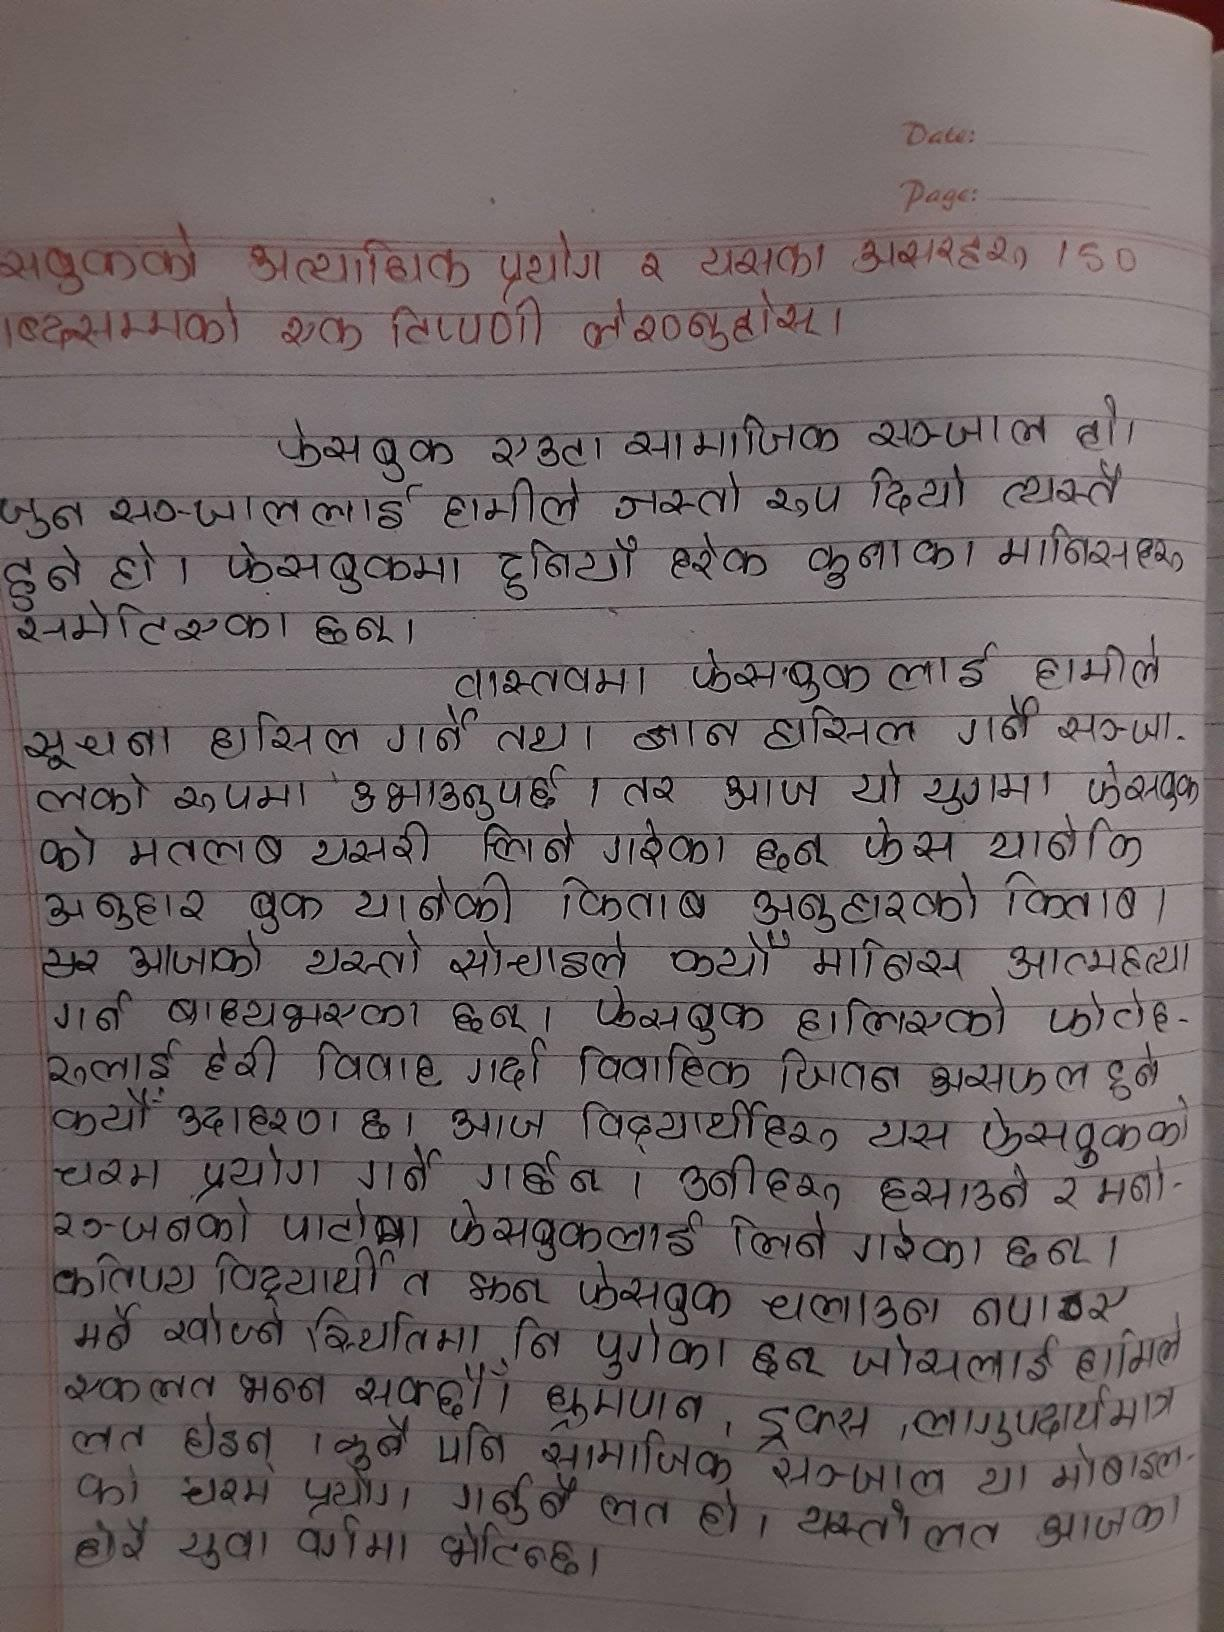text: (683, 637, 996, 705), (570, 1091, 841, 1160), (440, 1202, 711, 1270), (910, 1387, 1192, 1447), (162, 980, 426, 1042), (1, 216, 211, 293), (1, 290, 246, 356), (579, 292, 827, 356), (744, 873, 987, 938), (977, 1097, 1203, 1167), (213, 538, 471, 598), (15, 599, 293, 650), (791, 988, 1018, 1049), (240, 230, 476, 288), (534, 1428, 737, 1495), (269, 412, 456, 483), (669, 1148, 852, 1220), (210, 1240, 397, 1309), (842, 1333, 1066, 1390), (346, 765, 573, 821), (103, 491, 411, 532), (585, 980, 768, 1049), (566, 1034, 757, 1097), (993, 929, 1200, 987), (48, 1193, 258, 1249), (993, 519, 1189, 580), (804, 532, 982, 598), (447, 928, 636, 989), (536, 1372, 712, 1438), (575, 1258, 739, 1326), (297, 1303, 490, 1361), (350, 870, 519, 936), (621, 412, 841, 463), (428, 1516, 586, 1586), (870, 1158, 1038, 1221), (492, 535, 643, 603), (981, 813, 1152, 873), (204, 705, 366, 767), (588, 1320, 737, 1387), (39, 879, 215, 936), (765, 1448, 957, 1500), (453, 657, 652, 705), (756, 1282, 950, 1333), (993, 865, 1143, 929), (545, 871, 715, 928), (806, 932, 969, 989), (923, 1049, 1098, 1103), (307, 1031, 447, 1097), (174, 1094, 345, 1148), (348, 1358, 499, 1419), (966, 1280, 1137, 1333), (387, 296, 549, 351), (18, 717, 183, 771), (861, 406, 1053, 452), (850, 1213, 987, 1277), (849, 230, 1032, 278), (40, 1246, 201, 1300), (1030, 634, 1167, 696), (768, 1043, 908, 1105), (486, 229, 609, 298), (762, 702, 921, 756), (744, 1396, 879, 1459), (598, 817, 741, 876), (438, 477, 588, 533), (662, 930, 798, 992), (123, 928, 267, 986), (51, 1361, 226, 1408), (195, 1142, 327, 1205), (289, 1512, 415, 1578), (37, 1036, 186, 1091), (446, 1468, 582, 1527), (1031, 1495, 1180, 1548), (792, 1496, 921, 1557), (471, 1153, 615, 1207), (1068, 1318, 1189, 1383), (171, 1408, 285, 1475), (121, 828, 291, 873), (1041, 986, 1176, 1042), (157, 1306, 297, 1360), (300, 930, 433, 987), (1048, 1441, 1191, 1493), (998, 459, 1130, 515), (1083, 757, 1203, 819), (300, 1459, 419, 1520), (482, 419, 609, 475), (306, 819, 441, 871), (30, 768, 161, 822), (613, 469, 747, 522), (697, 230, 833, 281), (858, 810, 962, 876), (723, 1207, 833, 1268), (917, 766, 1056, 815), (231, 1357, 333, 1423), (863, 459, 975, 518), (174, 1518, 278, 1579), (1052, 702, 1183, 750), (44, 1083, 159, 1139), (1, 541, 90, 613), (48, 1148, 175, 1198), (168, 777, 316, 819), (357, 1137, 446, 1205), (453, 1263, 564, 1317), (468, 821, 588, 871), (669, 528, 771, 586), (625, 711, 746, 759), (717, 767, 825, 821), (327, 1414, 419, 1477), (382, 702, 481, 759), (492, 711, 600, 763), (996, 1225, 1099, 1280), (444, 1095, 550, 1148), (239, 878, 332, 938), (861, 1106, 960, 1162), (957, 695, 1047, 756), (69, 1515, 159, 1575), (747, 1327, 833, 1390), (463, 1037, 555, 1095), (1092, 1157, 1179, 1217), (1050, 227, 1146, 283), (197, 1027, 282, 1088), (273, 1196, 368, 1250), (309, 600, 399, 655), (279, 305, 369, 359), (444, 989, 537, 1041), (750, 825, 836, 880), (431, 1421, 517, 1477), (174, 1468, 279, 1512), (67, 1299, 147, 1358), (30, 820, 105, 882), (48, 986, 132, 1040), (1, 488, 86, 541), (69, 1459, 152, 1512), (62, 1416, 157, 1462), (921, 1512, 1011, 1561), (591, 1486, 678, 1536), (1101, 1038, 1165, 1104), (759, 473, 846, 520), (689, 1486, 750, 1551), (501, 1308, 568, 1365), (33, 942, 112, 987), (105, 537, 166, 595), (849, 756, 906, 815), (971, 1452, 1032, 1507), (1074, 391, 1122, 454), (618, 766, 683, 812), (352, 1097, 402, 1148), (1050, 1167, 1088, 1225), (633, 243, 676, 290), (399, 1263, 435, 1303)
